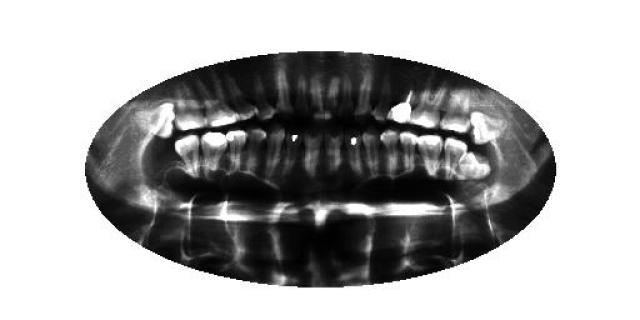Fillings: (200, 131, 228, 179), (348, 132, 362, 178), (286, 131, 300, 174)
Implant: (387, 85, 412, 124)
Restorations: (131, 99, 175, 139), (470, 110, 511, 145)
